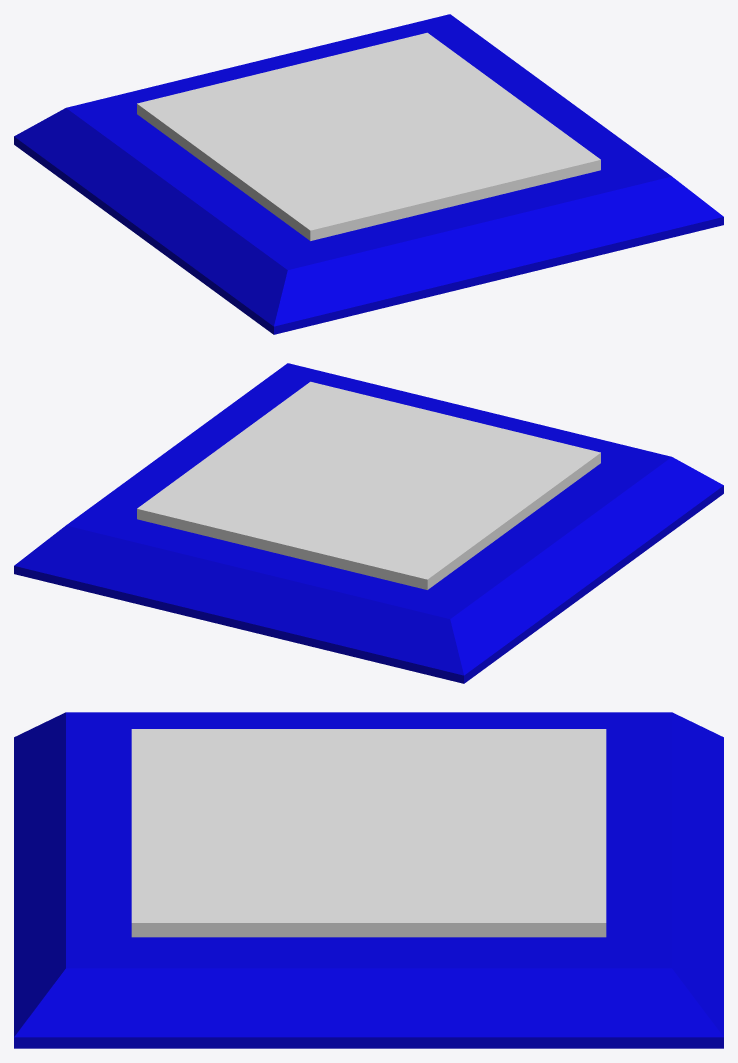
Rendered from jumppad.fbx.
The picture shows the model from 3 angles, top to bottom: view 1: azimuth 30°, elevation 25°; view 2: azimuth 150°, elevation 25°; view 3: azimuth 270°, elevation 25°; orthographic projection. The views are drawn at different scales.
Visible parts, largest first — view 1: Cube; view 2: Cube; view 3: Cube.
Boxes of the visible parts, <box> form: Cube: <box>14,14,723,334</box>; Cube: <box>14,363,723,683</box>; Cube: <box>14,712,723,1048</box>.
Size of the model in its own units: 2 by 0.226 by 2.
